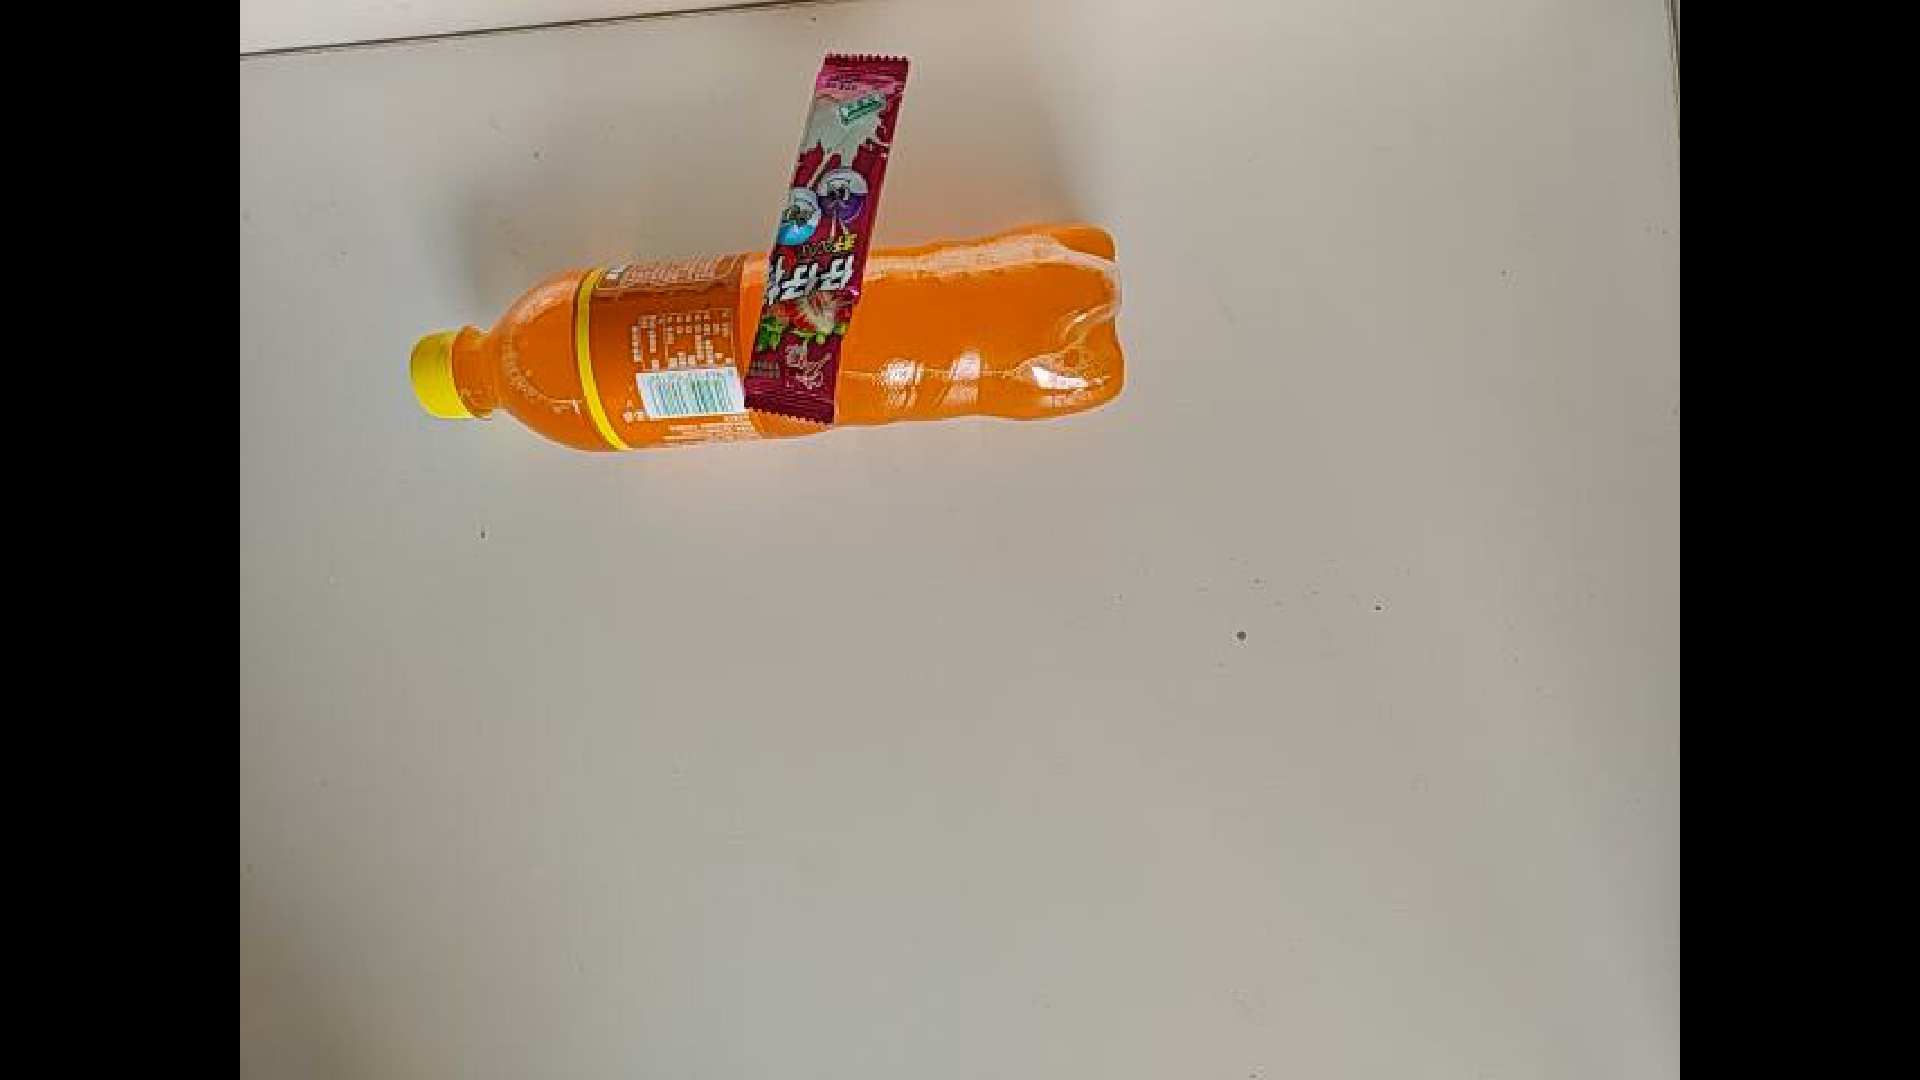fenta: (400, 243, 1150, 480)
sugar: (736, 45, 976, 431)
